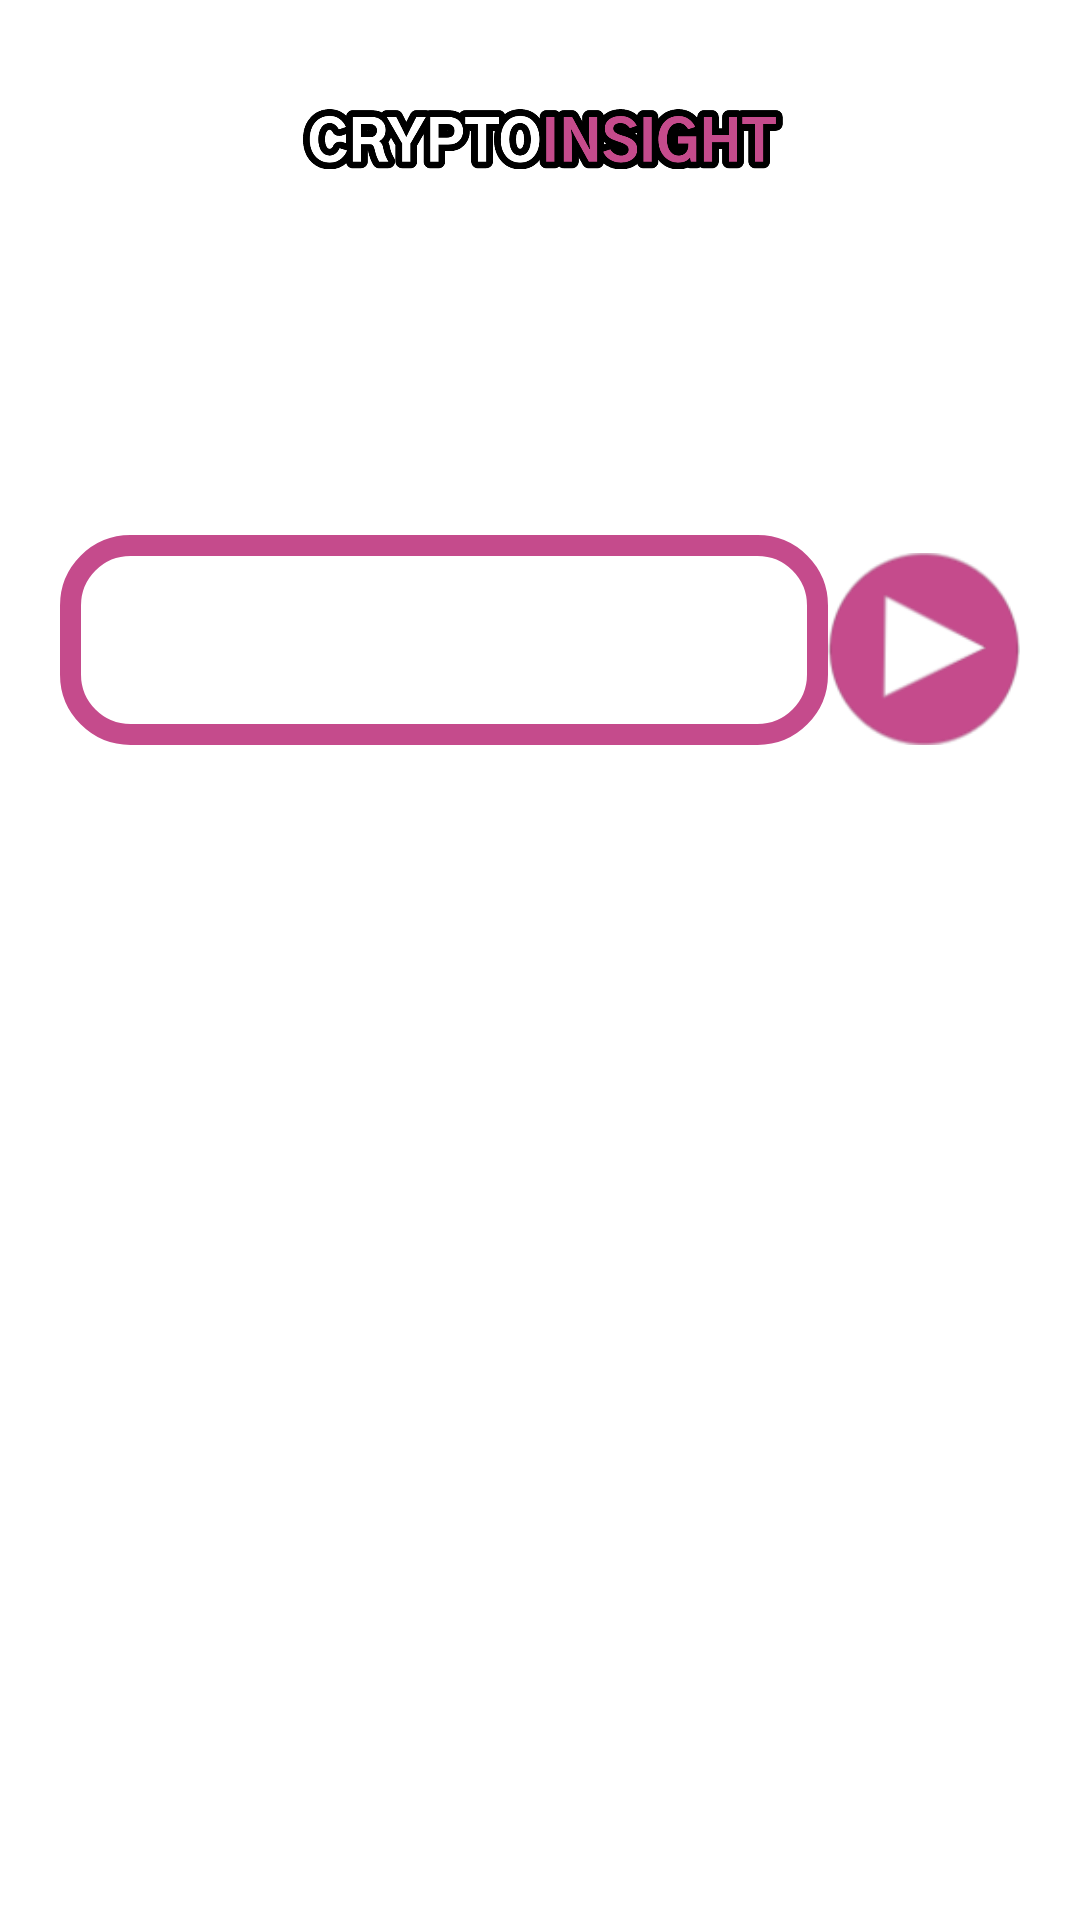

Icon bounding boxes for this 1080 x 1920 phone screenshot, format detection(x1, y1, x2, y2):
play: detection(828, 553, 1020, 745)
